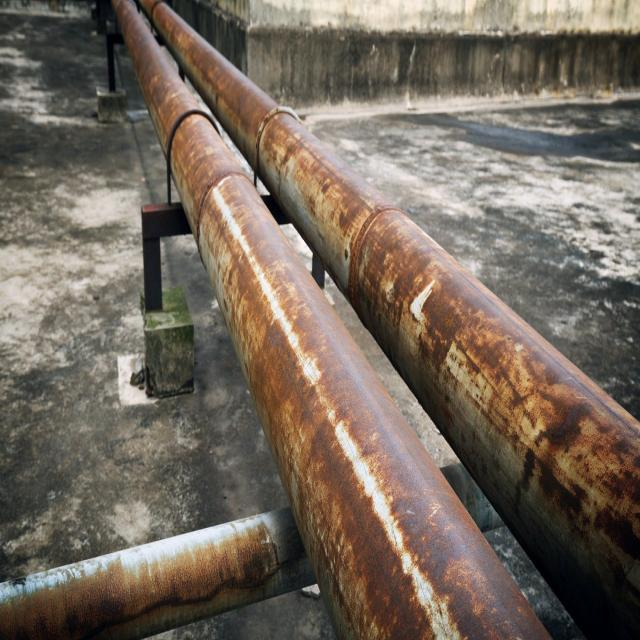gas: (139, 2, 639, 640), (111, 2, 549, 639), (0, 507, 312, 639), (441, 462, 505, 525)
